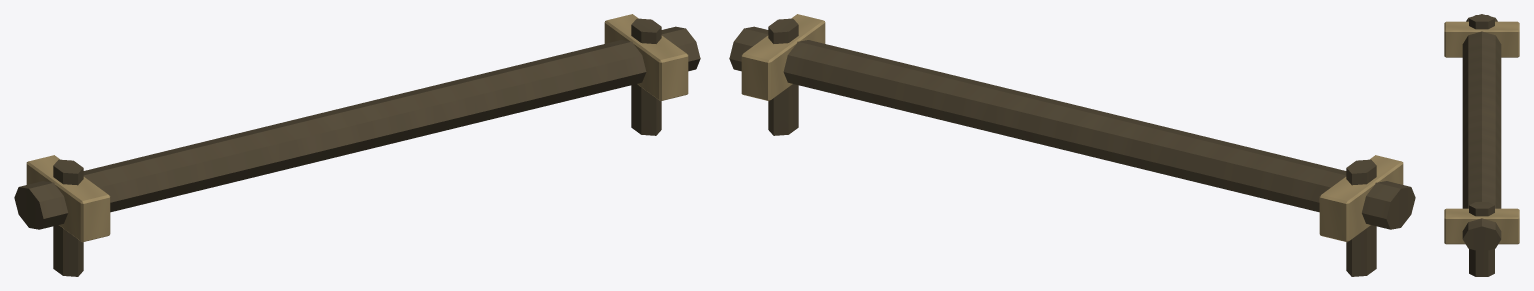
File: WarrensC_WVC055_HerbDryingRod_Mars_SM.fbx
3 renders of one model, left to right at view 1: azimuth 30°, elevation 25°; view 2: azimuth 150°, elevation 25°; view 3: azimuth 270°, elevation 25°, orthographic. The views are drawn at different scales.
Parts seen in each view (by area): view 1: WarrensC_WVC055_HerbDryingRod_Mars_SM.001; view 2: WarrensC_WVC055_HerbDryingRod_Mars_SM.001; view 3: WarrensC_WVC055_HerbDryingRod_Mars_SM.001.
Boxes of the visible parts, x1,y1,x2,y2 form: WarrensC_WVC055_HerbDryingRod_Mars_SM.001: [14, 14, 700, 276]; WarrensC_WVC055_HerbDryingRod_Mars_SM.001: [729, 14, 1415, 276]; WarrensC_WVC055_HerbDryingRod_Mars_SM.001: [1444, 14, 1519, 276].
Bounding box in the file's own units: 200 × 30 × 30.
